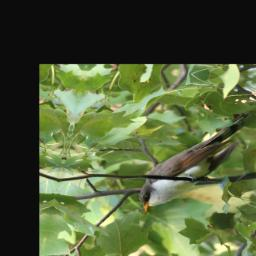Cuckoo: (132, 101, 251, 219)
